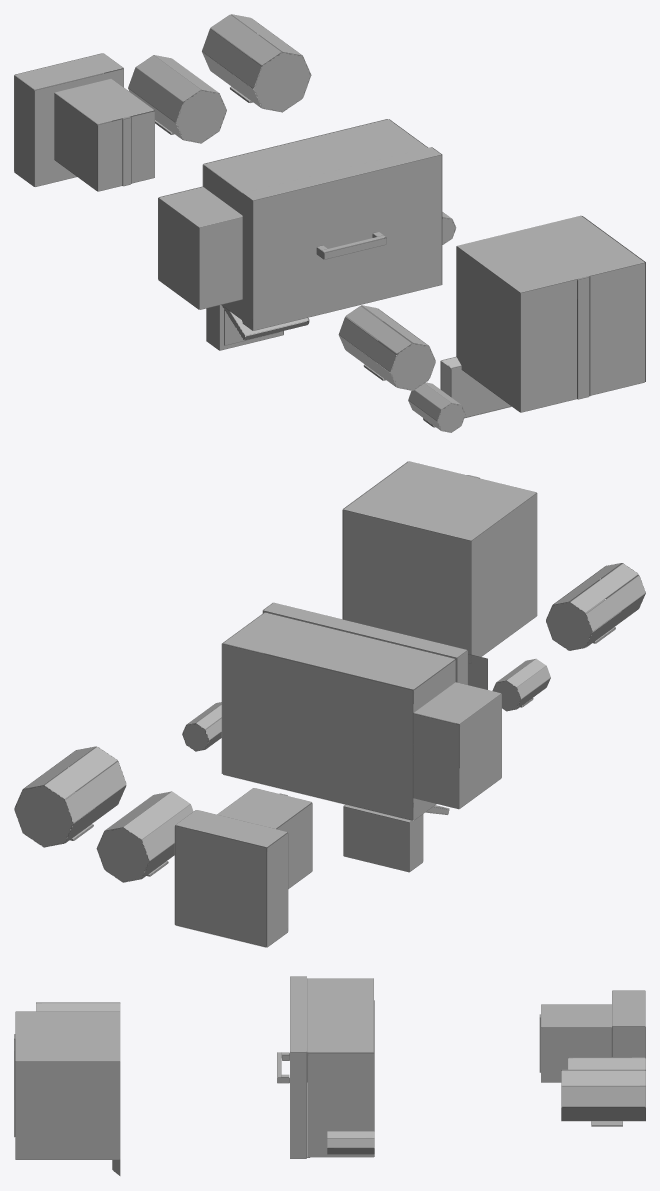
Rendered from contents_books_misc_02_25.obj.
3 views of the same model, one above another, from view 1: azimuth 30°, elevation 25°; view 2: azimuth 150°, elevation 25°; view 3: azimuth 270°, elevation 25° (orthographic). The views are drawn at different scales.
Visible parts, largest first — view 1: contents_books_misc_02_25; view 2: contents_books_misc_02_25; view 3: contents_books_misc_02_25.
Part boxes in pixels (x1,y1,x2,y2): contents_books_misc_02_25: [14, 14, 645, 432]; contents_books_misc_02_25: [14, 461, 645, 947]; contents_books_misc_02_25: [14, 976, 645, 1175].
Bounding box in the file's own units: 0.752 × 0.495 × 1.86.
Materials: 1 (1 with a texture image).
